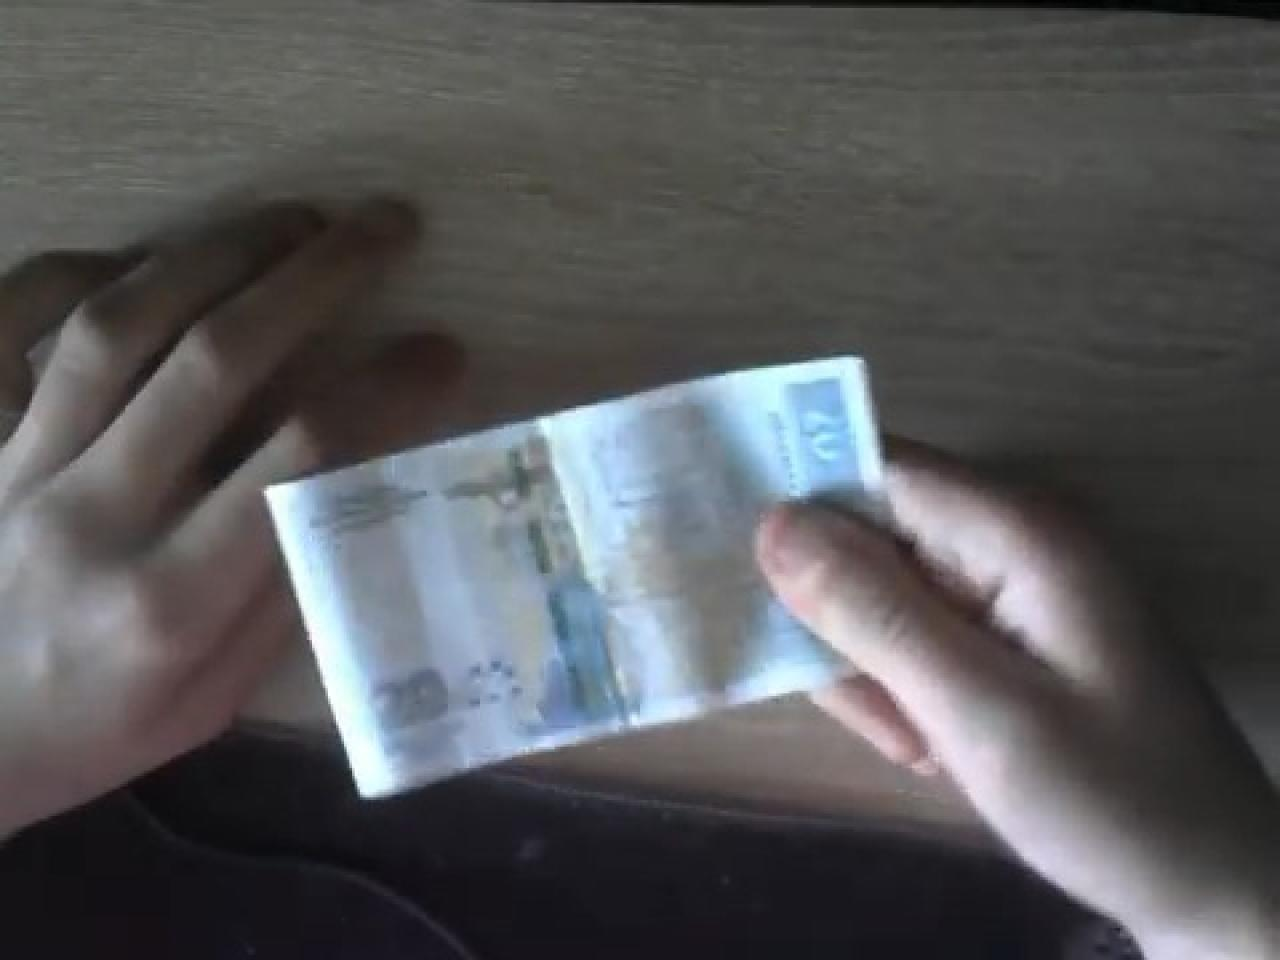20leva: (259, 352, 901, 806)
